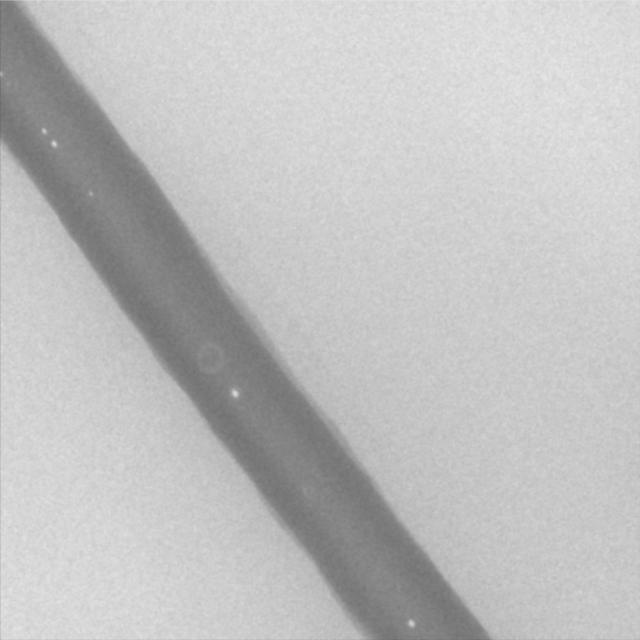air hole: (406, 615, 417, 630), (230, 385, 239, 400), (49, 138, 58, 148), (39, 125, 47, 134), (87, 189, 94, 199)
hollow bead: (194, 341, 226, 376)
